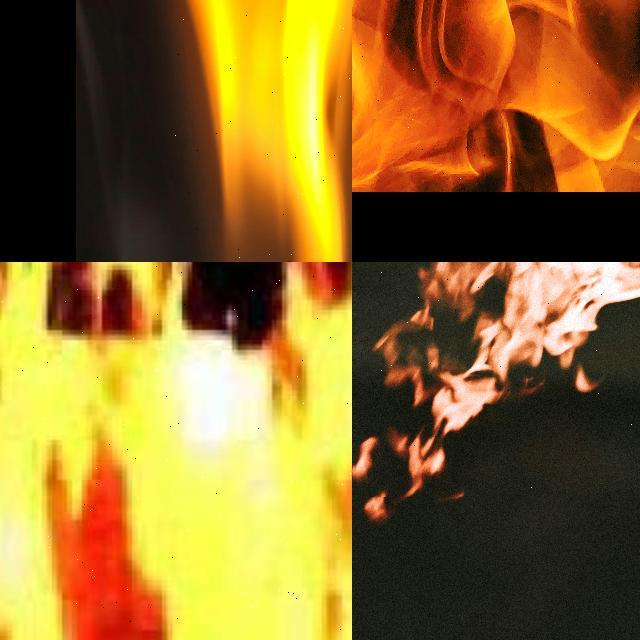fire: (0, 262, 352, 640), (355, 262, 640, 497), (352, 0, 640, 192), (187, 0, 352, 262)
